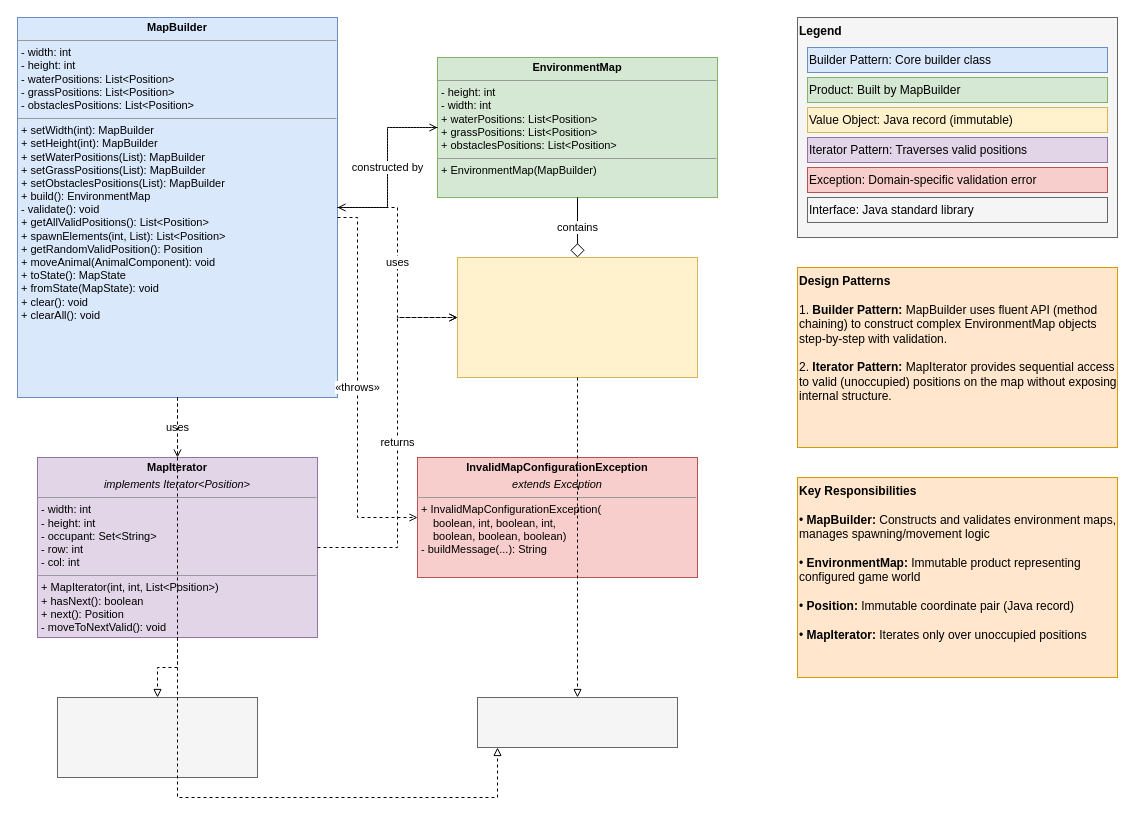
This 1135x823 diagram has some shape labels left out. The centre of each missing label's shape, as x and y in pixels:
"<<interface>> Iterator<T> + hasNext(): boolean + next(): T" goes at (x=157, y=737).
"<<interface>> Serializable" goes at (x=577, y=722).
"<<record>> Position + x: int + y: int + x(): int + y(): int" goes at (x=577, y=317).
